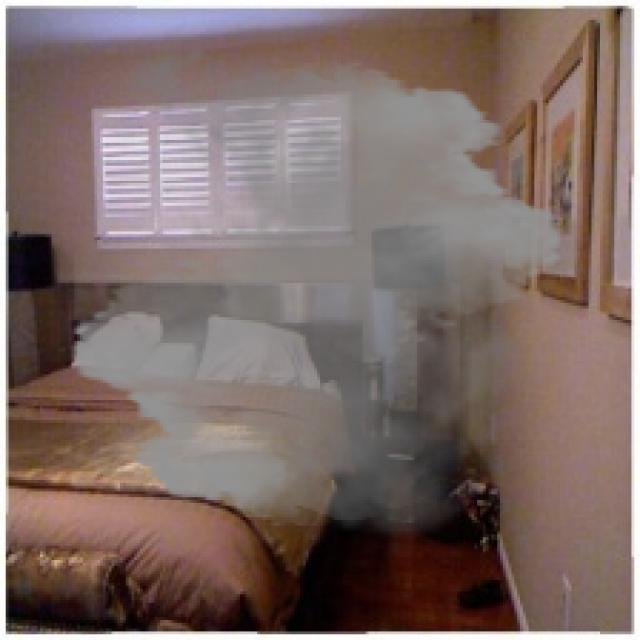Smoke: (54, 26, 580, 548)
